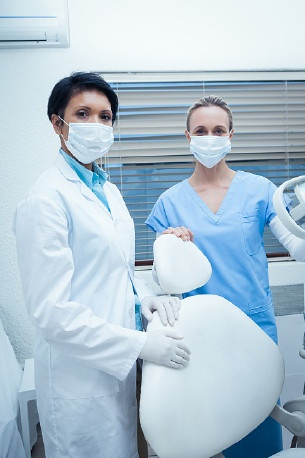Mask: (66, 102, 124, 161)
